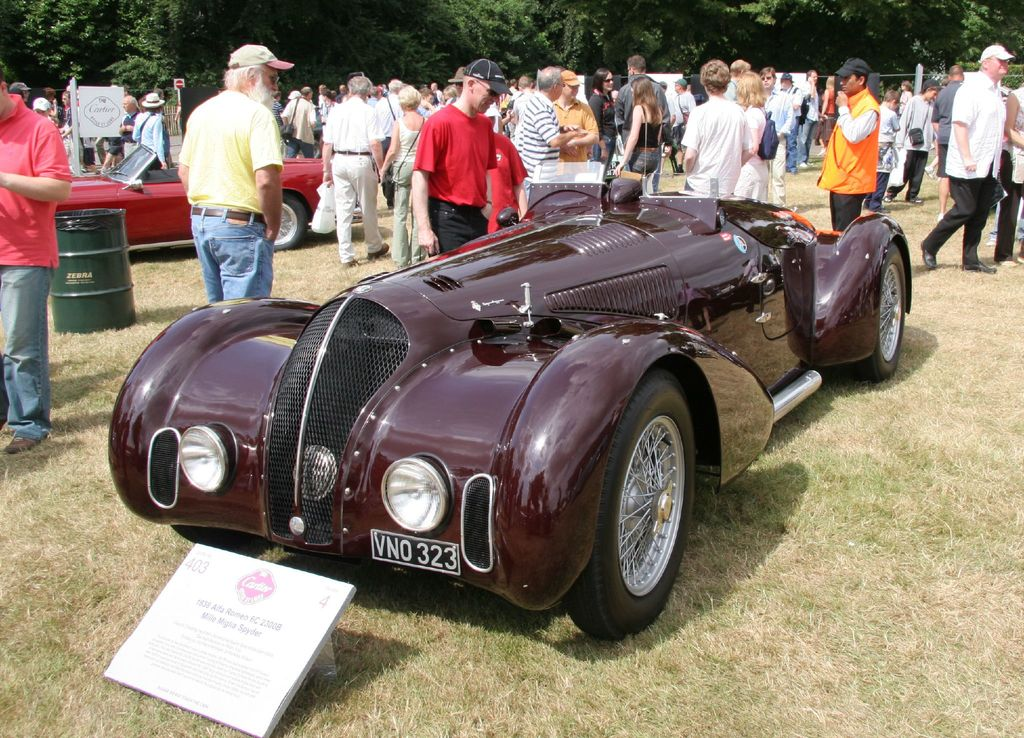Car: (107, 158, 912, 638), (53, 144, 331, 255)
